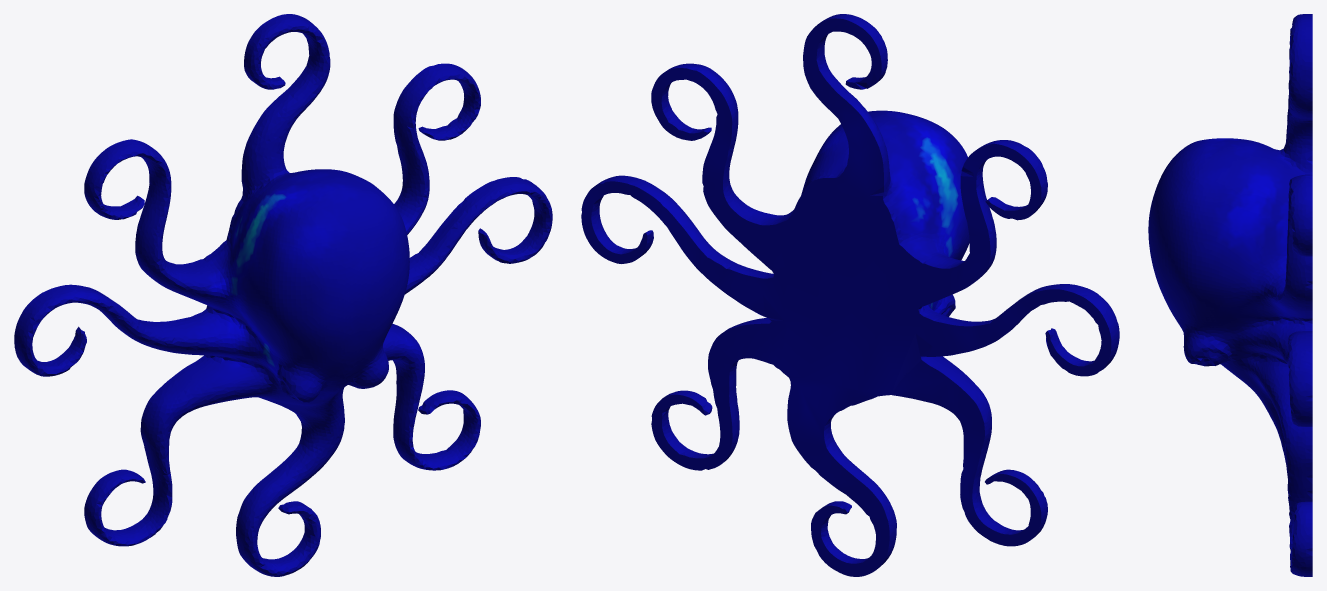
File: octopus_error.glb
3 renders of one model, left to right at view 1: azimuth 30°, elevation 25°; view 2: azimuth 150°, elevation 25°; view 3: azimuth 270°, elevation 25°, orthographic.
Parts seen in each view (by area): view 1: octopus_smooth.obj; view 2: octopus_smooth.obj; view 3: octopus_smooth.obj.
Part boxes in pixels (x1,y1,x2,y2): octopus_smooth.obj: (14, 14, 552, 576); octopus_smooth.obj: (581, 14, 1119, 576); octopus_smooth.obj: (1148, 14, 1312, 576).
Bounding box in the file's own units: 1.92 × 1.93 × 0.5229.
